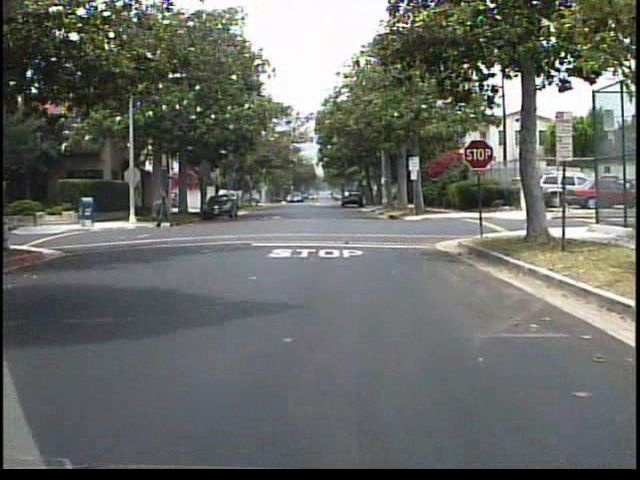person: (152, 180, 176, 231)
